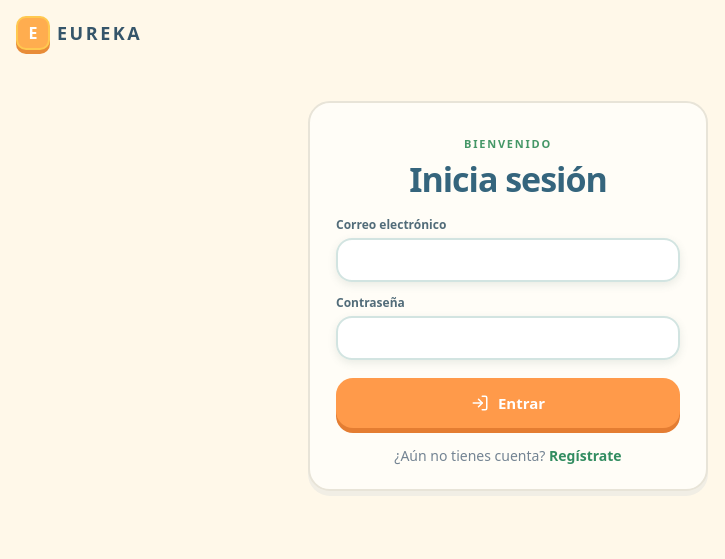
acceso › muestra el error de credenciales inválidas y no guarda ningún token
This screenshot has width=725, height=559.
Type "ana@example.com" into the field labelled "Correo electrónico".
click(508, 260); type("ana@example.com")  # box [336,238,680,282]
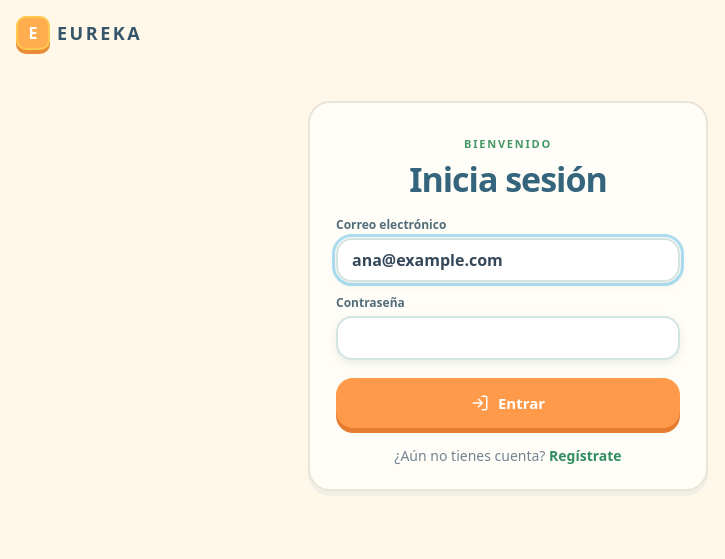
Type "mala-clave-123" into the password field labelled "Contraseña".
click(508, 338); type("mala-clave-123")  # box [336,316,680,360]
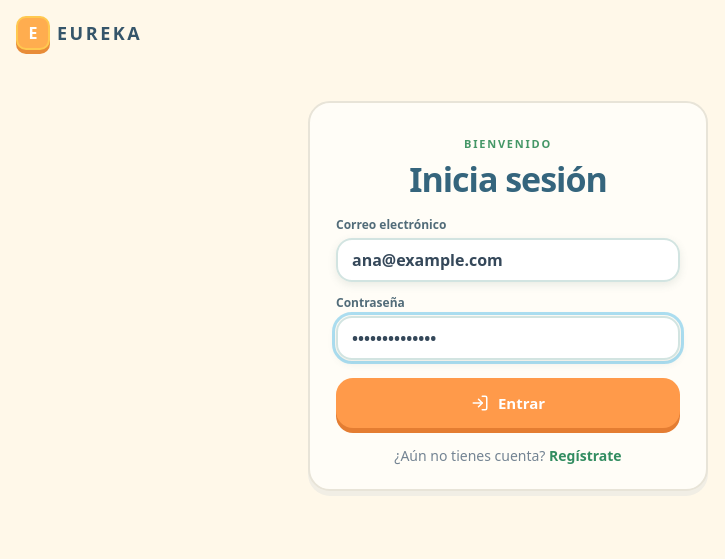
Click the button "Entrar".
click(508, 403)  # box [336,378,680,428]
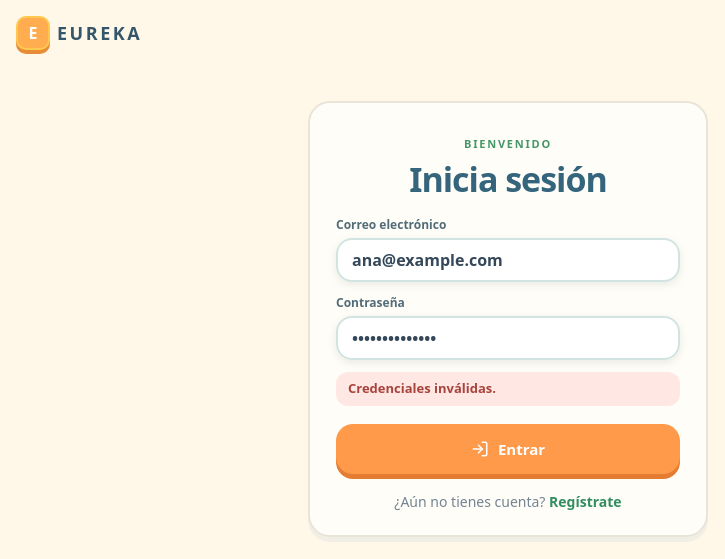
Result: the message reads "Credenciales inválidas." at [348,379,496,397]
